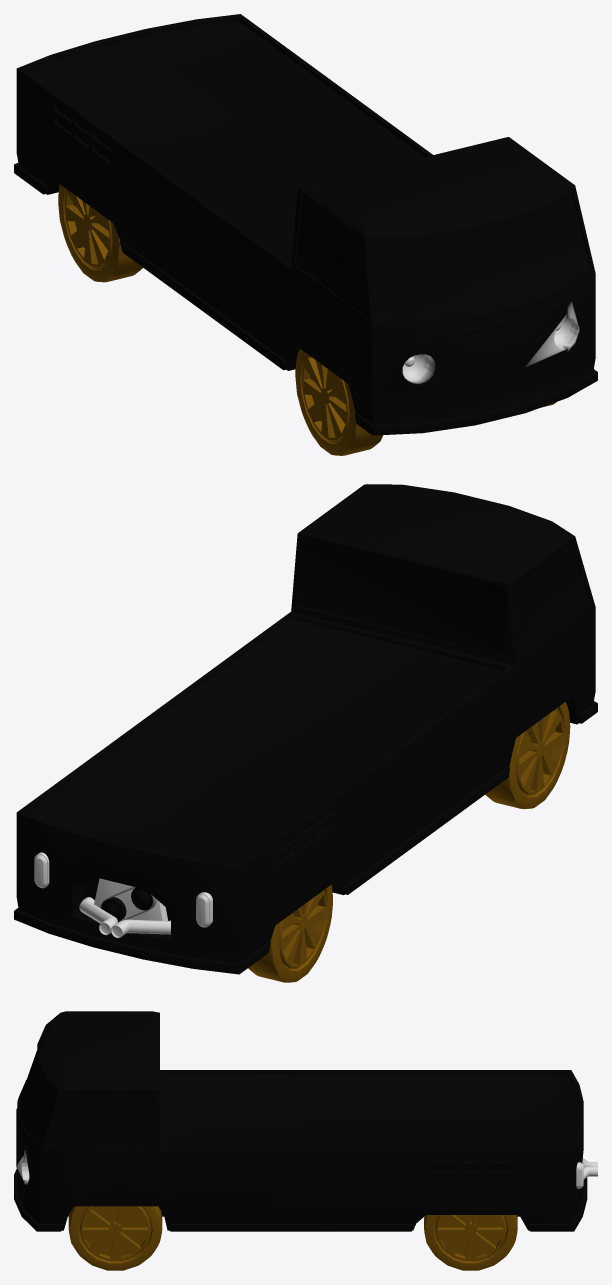
The model's file is BiggerVehicle.fbx.
The picture shows the model from 3 angles, top to bottom: view 1: azimuth 30°, elevation 25°; view 2: azimuth 150°, elevation 25°; view 3: azimuth 270°, elevation 25°; orthographic projection. The views are drawn at different scales.
Parts seen in each view (by area): view 1: body, wheel007, wheel006; view 2: body, wheel007, wheel006; view 3: body, wheel1, wheel005.
Boxes of the visible parts, x1=… form: body: x1=14, y1=14, x2=597, y2=435; wheel007: x1=295, y1=349, x2=383, y2=455; wheel006: x1=58, y1=184, x2=142, y2=282; body: x1=14, y1=484, x2=597, y2=974; wheel007: x1=485, y1=702, x2=570, y2=809; wheel006: x1=248, y1=884, x2=332, y2=982; body: x1=14, y1=1011, x2=597, y2=1231; wheel1: x1=68, y1=1206, x2=162, y2=1270; wheel005: x1=424, y1=1215, x2=517, y2=1270.
Bounding box in the file's own units: 11.26 × 11.79 × 33.73.
